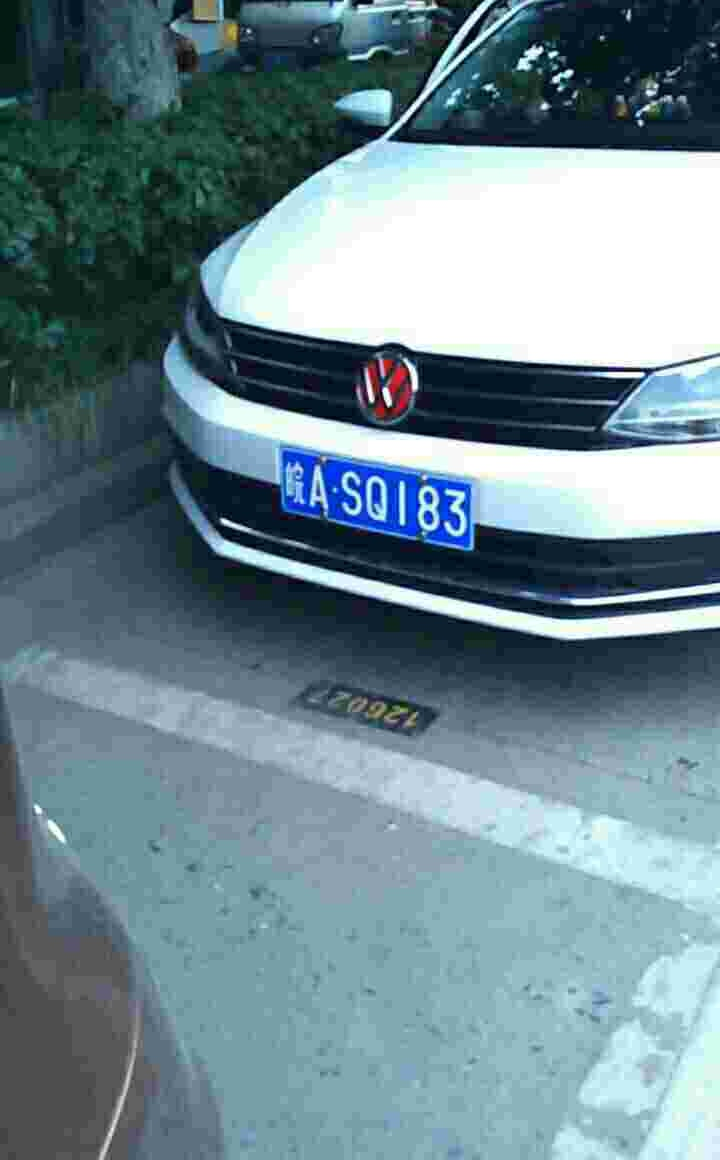license_plate: (277, 451, 472, 549)
